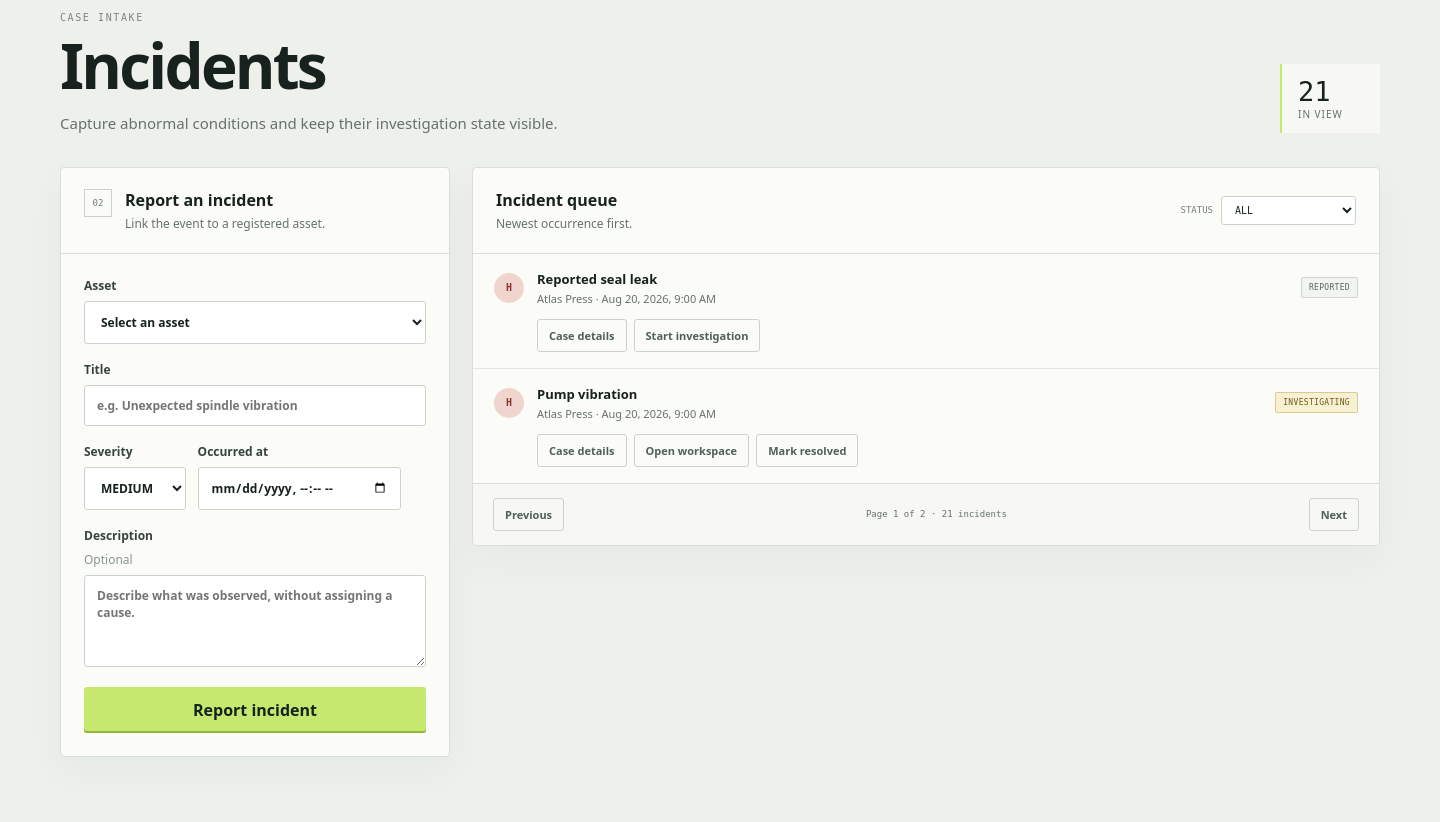
Test: Incident queue lifecycle › paginates the full queue using the backend total
The width and height of the screenshot is (1440, 822).
Check: the text "Reported seal leak" is shown, box [537,270,657,288]
Check: the text "Page 1 of 2 · 21 incidents" is shown, box [866,509,1007,519]
Step 1. Click the button "Next" → (1334, 514), box [1309,498,1359,531]
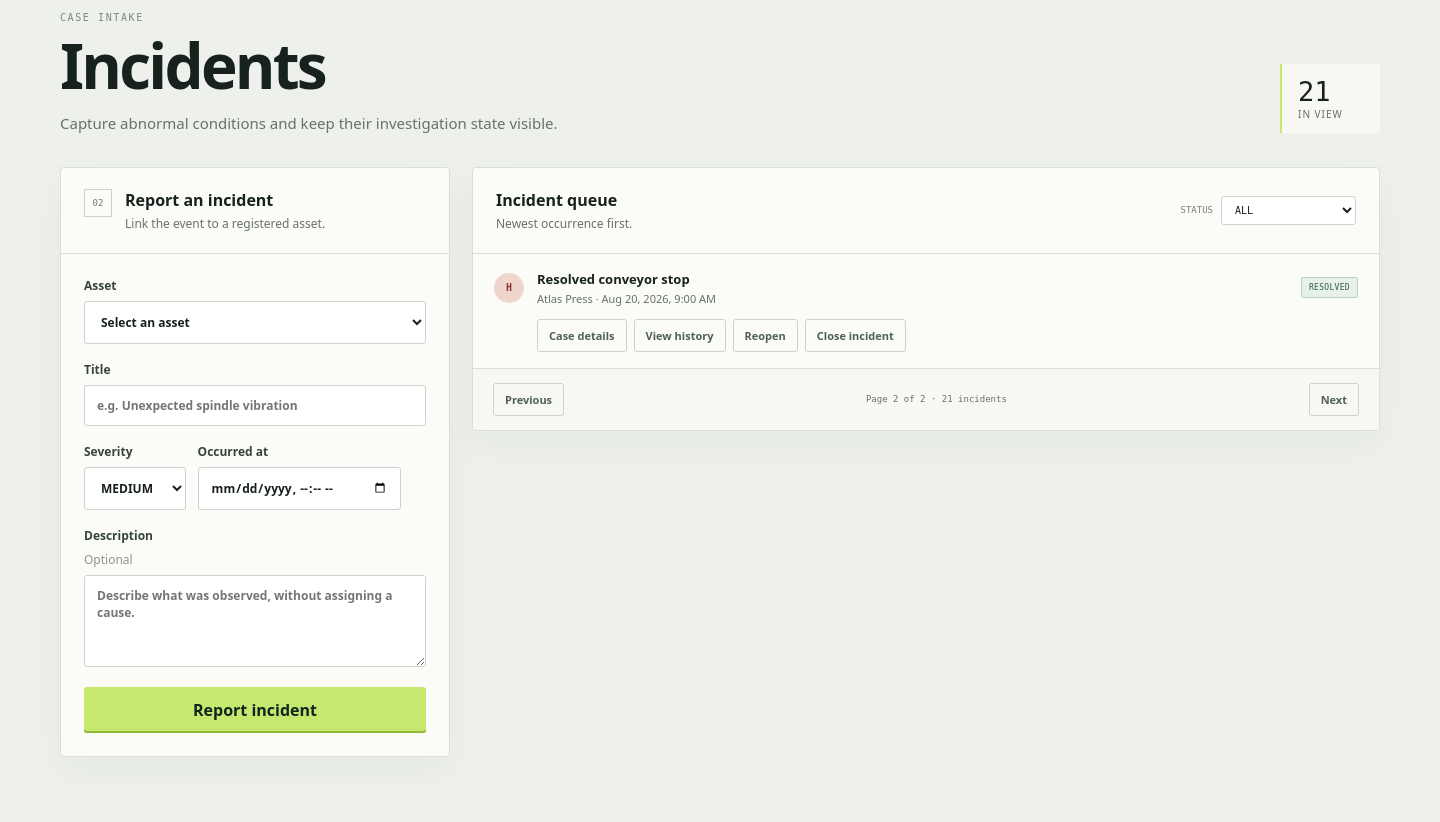
Check: the text "Resolved conveyor stop" is shown, box [537,270,690,288]
Check: the text "Page 2 of 2 · 21 incidents" is shown, box [866,394,1007,404]
